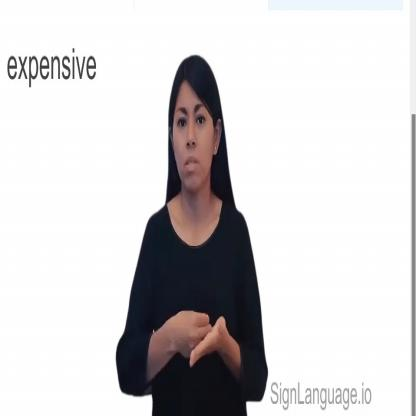Expensive: (160, 254, 233, 395)
